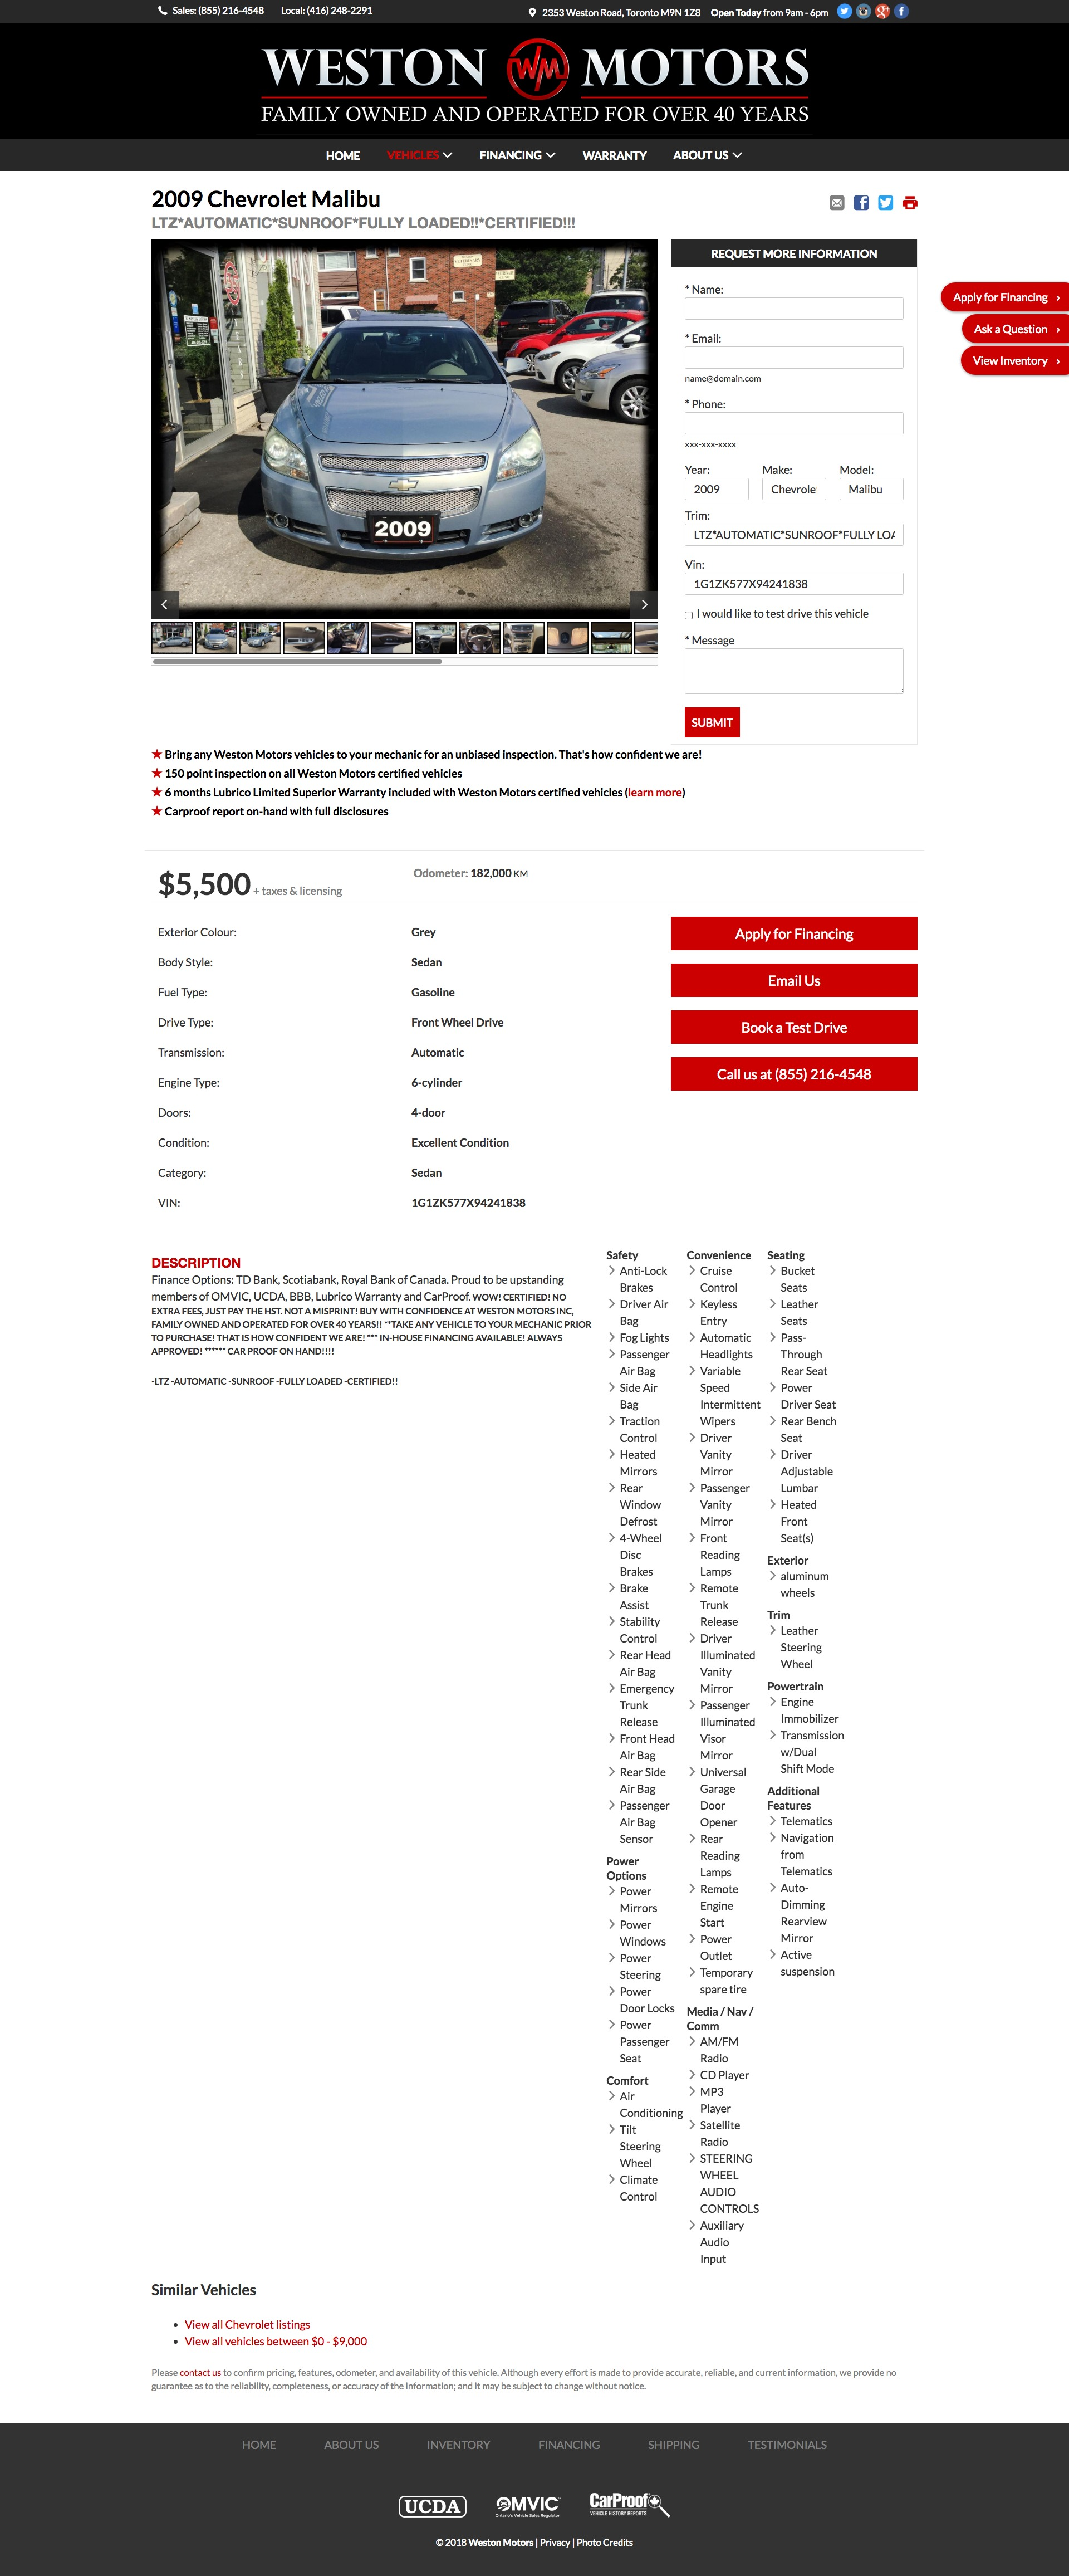car: (627, 590, 660, 621)
